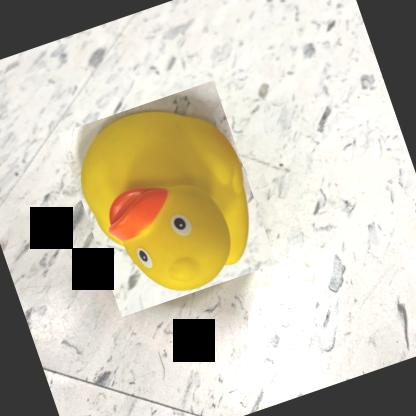duck: (58, 80, 276, 317)
